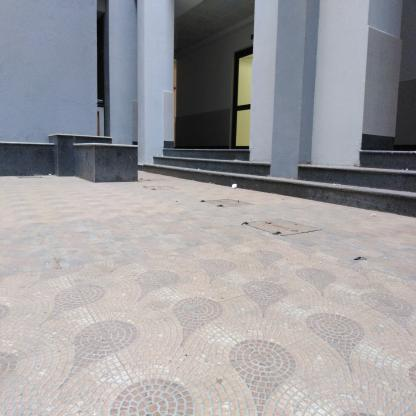stairs: (164, 147, 250, 186)
